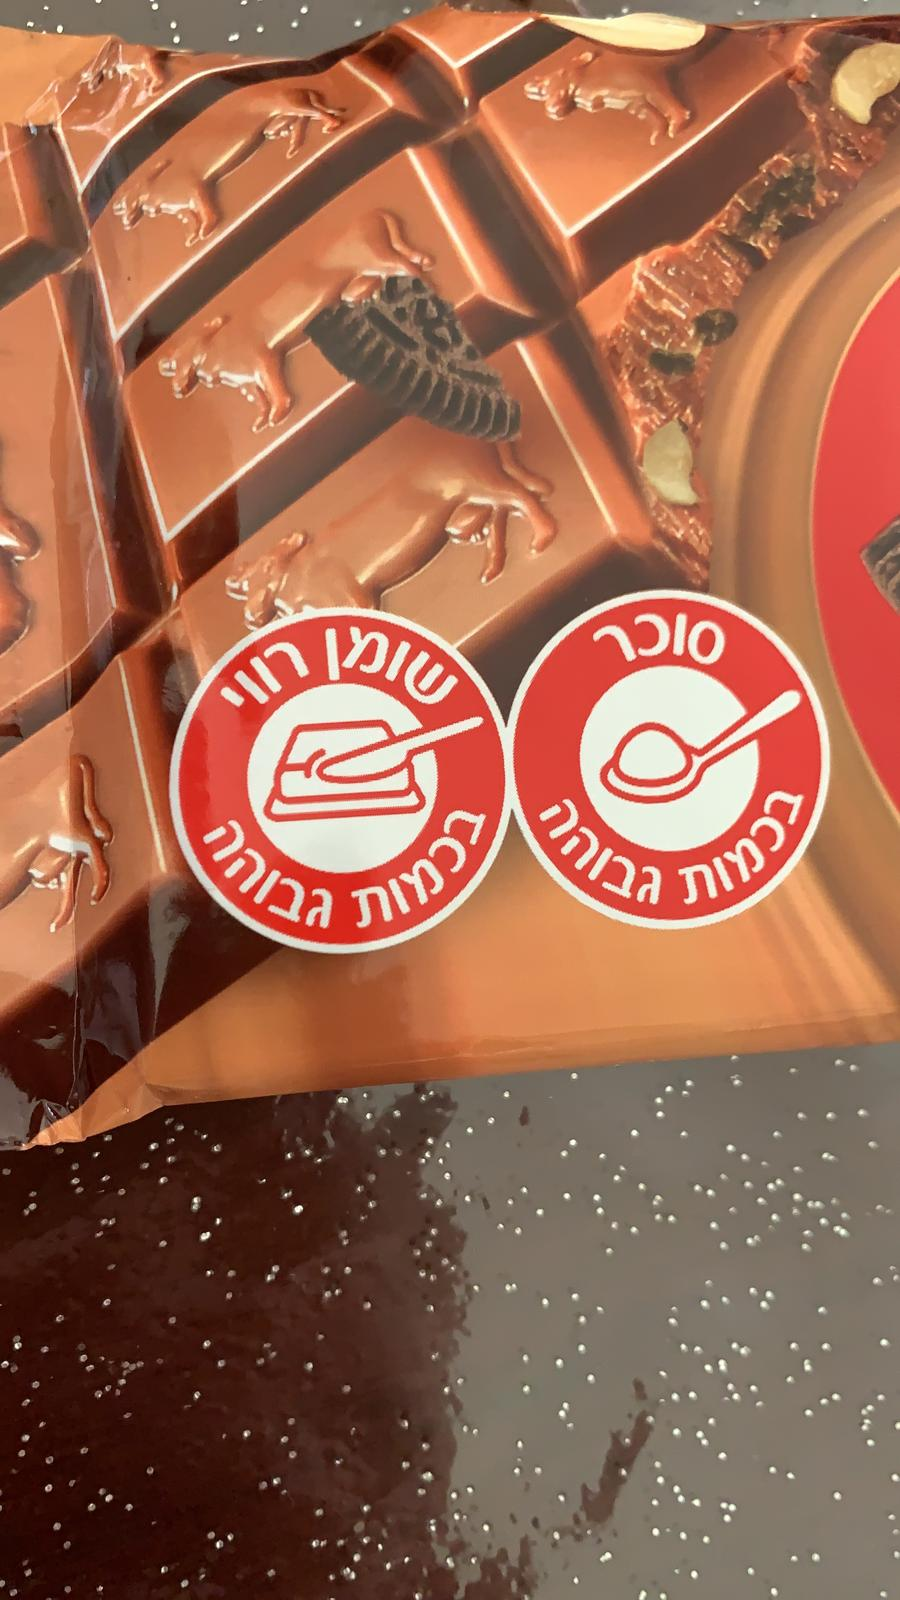fat: (167, 605, 509, 958)
sugar: (509, 588, 836, 933)
